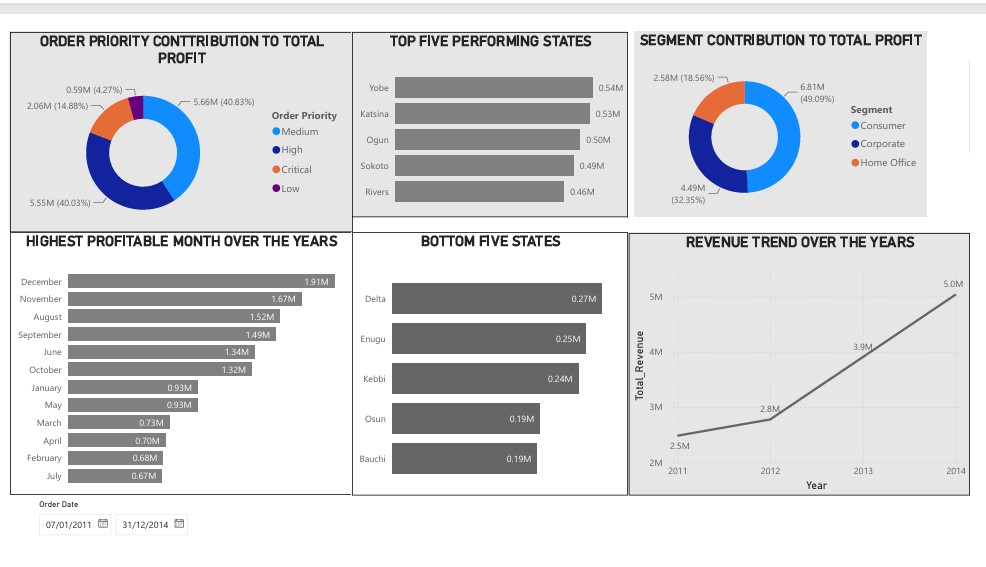

The dashboard page shown, as its layout file describes it:
{"tool":"powerbi","page":{"name":"Page 2","canvas":[1280,720],"ordinal":1},"visuals":[{"type":"donutChart","title":"ORDER PRIORITY CONTTRIBUTION TO TOTAL PROFIT","fields":{"Category":["Orders1.Order Priority"],"Y":["Orders1.Total_Profit"]},"box":[0,0,456.7,266.7],"z":0},{"type":"clusteredBarChart","title":"HIGHEST PROFITABLE MONTH OVER THE YEARS","fields":{"Category":["Orders1.Order Date.Variation.Date Hierarchy.Month"],"Y":["Orders1.Total_Profit"]},"box":[0,266.7,456.3,350.6],"z":1000},{"type":"clusteredBarChart","title":"TOP FIVE PERFORMING STATES","fields":{"Category":["Orders1.State"],"Y":["Orders1.Total_Profit"]},"box":[456.3,0,367.8,247.1],"z":2000},{"type":"clusteredBarChart","title":"BOTTOM FIVE STATES","fields":{"Category":["Orders1.State"],"Y":["Orders1.Total_Profit"]},"box":[456,267,368,351],"z":3000},{"type":"donutChart","title":"SEGMENT CONTRIBUTION TO TOTAL PROFIT","fields":{"Category":["Orders1.Segment"],"Y":["Orders1.Total_Profit"]},"box":[833.3,0,390,246.7],"z":4000},{"type":"lineChart","title":"REVENUE TREND OVER THE YEARS","fields":{"Category":["Orders1.Order Date.Variation.Date Hierarchy.Year"],"Y":["Orders1.Total_Revenue"]},"box":[825,268.3,455,350],"z":5000},{"type":"slicer","fields":{"Values":["Orders1.Order Date"]},"box":[25.7,618.6,300,81.4],"z":6000}]}

Visuals, with their boxes in screenshot pixels (x1, y1, x2, y2), scaled from the page's 1280x720 canvas onto the 986x567 screenshot:
"ORDER PRIORITY CONTTRIBUTION TO TOTAL PROFIT" donutChart: 0,0,352,210
"HIGHEST PROFITABLE MONTH OVER THE YEARS" clusteredBarChart: 0,210,351,486
"TOP FIVE PERFORMING STATES" clusteredBarChart: 351,0,635,195
"BOTTOM FIVE STATES" clusteredBarChart: 351,210,635,487
"SEGMENT CONTRIBUTION TO TOTAL PROFIT" donutChart: 642,0,942,194
"REVENUE TREND OVER THE YEARS" lineChart: 636,211,985,487
slicer - Orders1.Order Date: 20,487,251,551
